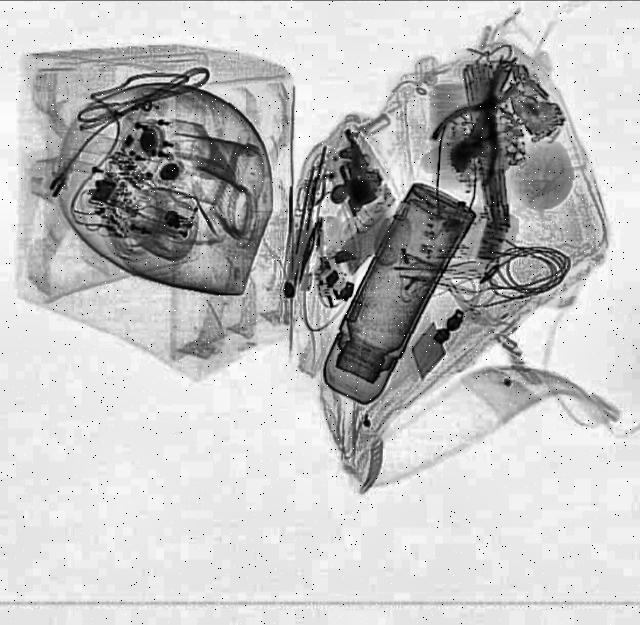Pliers: (418, 58, 550, 192)
